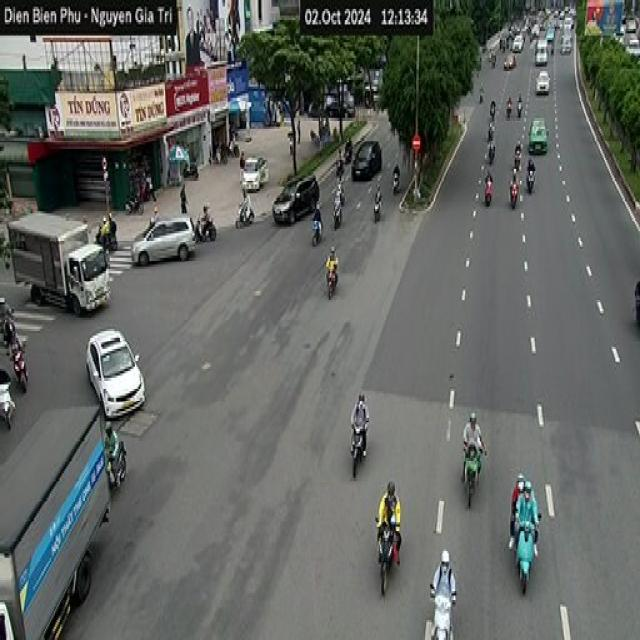car: (85, 327, 145, 418), (130, 213, 196, 267), (271, 173, 319, 224), (351, 138, 381, 180), (234, 158, 269, 194), (528, 115, 548, 154), (504, 47, 519, 79), (535, 69, 550, 93)
motorcycle: (510, 511, 541, 593), (375, 516, 400, 596), (460, 444, 482, 506), (107, 437, 133, 484), (350, 418, 369, 478), (8, 360, 32, 395), (188, 223, 219, 246), (2, 384, 16, 432), (96, 225, 122, 249), (228, 208, 256, 228), (325, 264, 337, 298), (508, 188, 522, 210), (483, 171, 492, 205), (331, 200, 341, 229), (372, 194, 382, 222), (311, 218, 321, 244), (391, 171, 400, 193)
person: (0, 275, 102, 421), (429, 549, 456, 638), (375, 480, 401, 564), (514, 478, 538, 558), (460, 411, 486, 482), (0, 318, 28, 364), (350, 391, 369, 456), (97, 409, 117, 469), (509, 462, 528, 514), (330, 168, 345, 210), (2, 360, 14, 407), (197, 202, 215, 232), (325, 244, 337, 286), (310, 197, 322, 231), (506, 168, 519, 198), (392, 164, 408, 188), (178, 182, 188, 220), (110, 209, 120, 245), (244, 184, 252, 222), (486, 164, 494, 195), (104, 204, 110, 228)
truck: (0, 402, 110, 638), (6, 209, 110, 315)
